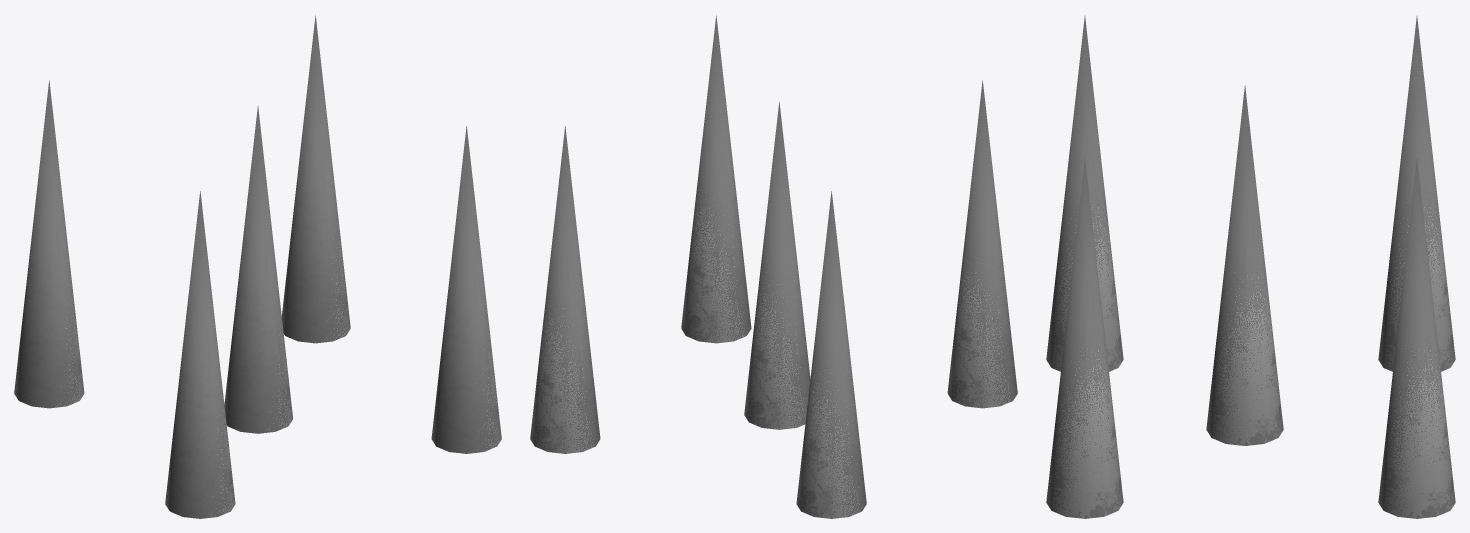
The model's file is Spike.fbx.
3 views of the same model, side by side, from view 1: azimuth 30°, elevation 25°; view 2: azimuth 150°, elevation 25°; view 3: azimuth 270°, elevation 25° (orthographic). The views are drawn at different scales.
Visible parts, largest first — view 1: SPIKES; view 2: SPIKES; view 3: SPIKES.
Part boxes in pixels (x1,y1,x2,y2): SPIKES: (14, 15, 501, 518); SPIKES: (530, 15, 1017, 518); SPIKES: (1046, 15, 1455, 518).
Bounding box in the file's own units: 5.56 × 5.11 × 5.48.
Materials: 1 (1 with a texture image).
